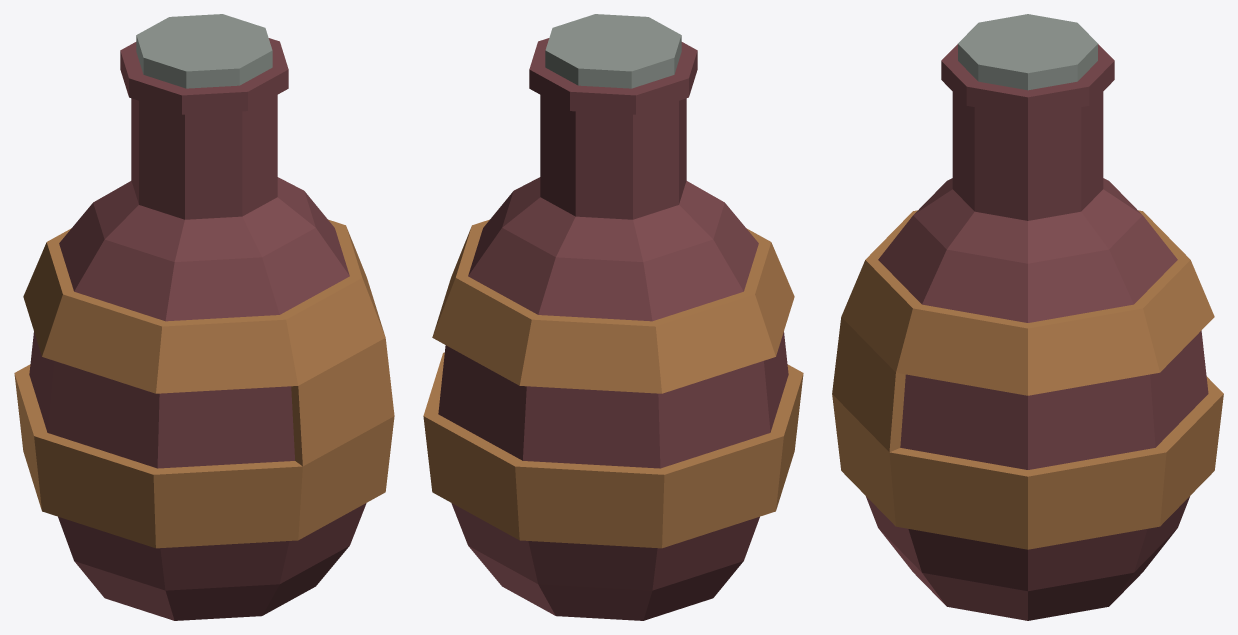
File: Potion_ronde.fbx
The picture shows the model from 3 angles, left to right: view 1: azimuth 30°, elevation 25°; view 2: azimuth 150°, elevation 25°; view 3: azimuth 270°, elevation 25°; orthographic projection.
Parts seen in each view (by area): view 1: POTION.002; view 2: POTION.002; view 3: POTION.002.
Boxes of the visible parts, <box> form: POTION.002: <box>14,14,394,620</box>; POTION.002: <box>423,14,803,620</box>; POTION.002: <box>832,14,1223,620</box>.
Size of the model in its own units: 10.73 by 15.99 by 10.73.
